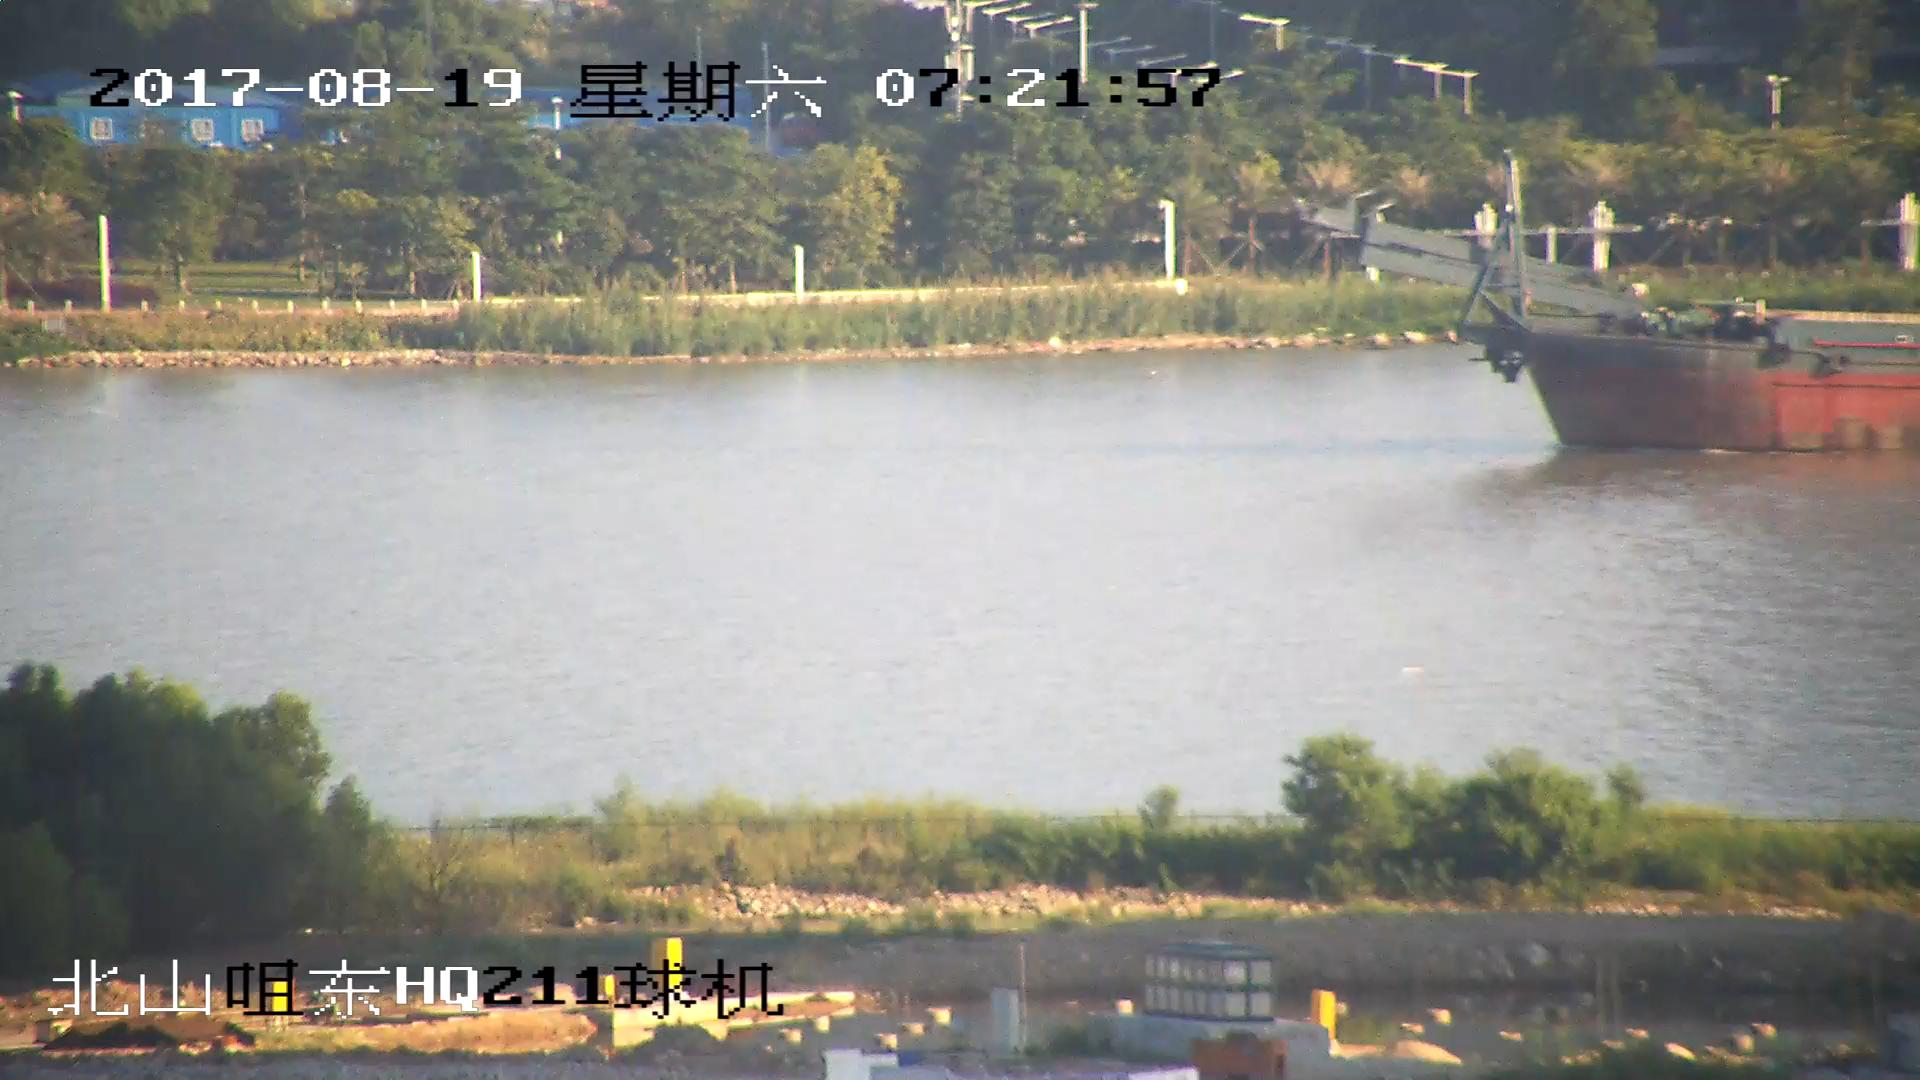bulk cargo carrier: (1304, 185, 1920, 456)
